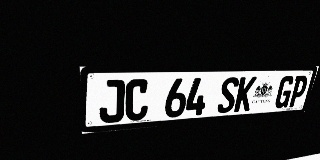4: (185, 78, 209, 116)
6: (164, 78, 189, 118)
C: (124, 79, 150, 122)
G: (273, 76, 296, 109)
J: (99, 79, 125, 124)
K: (233, 77, 257, 112)
P: (287, 75, 309, 107)
S: (216, 77, 240, 114)
